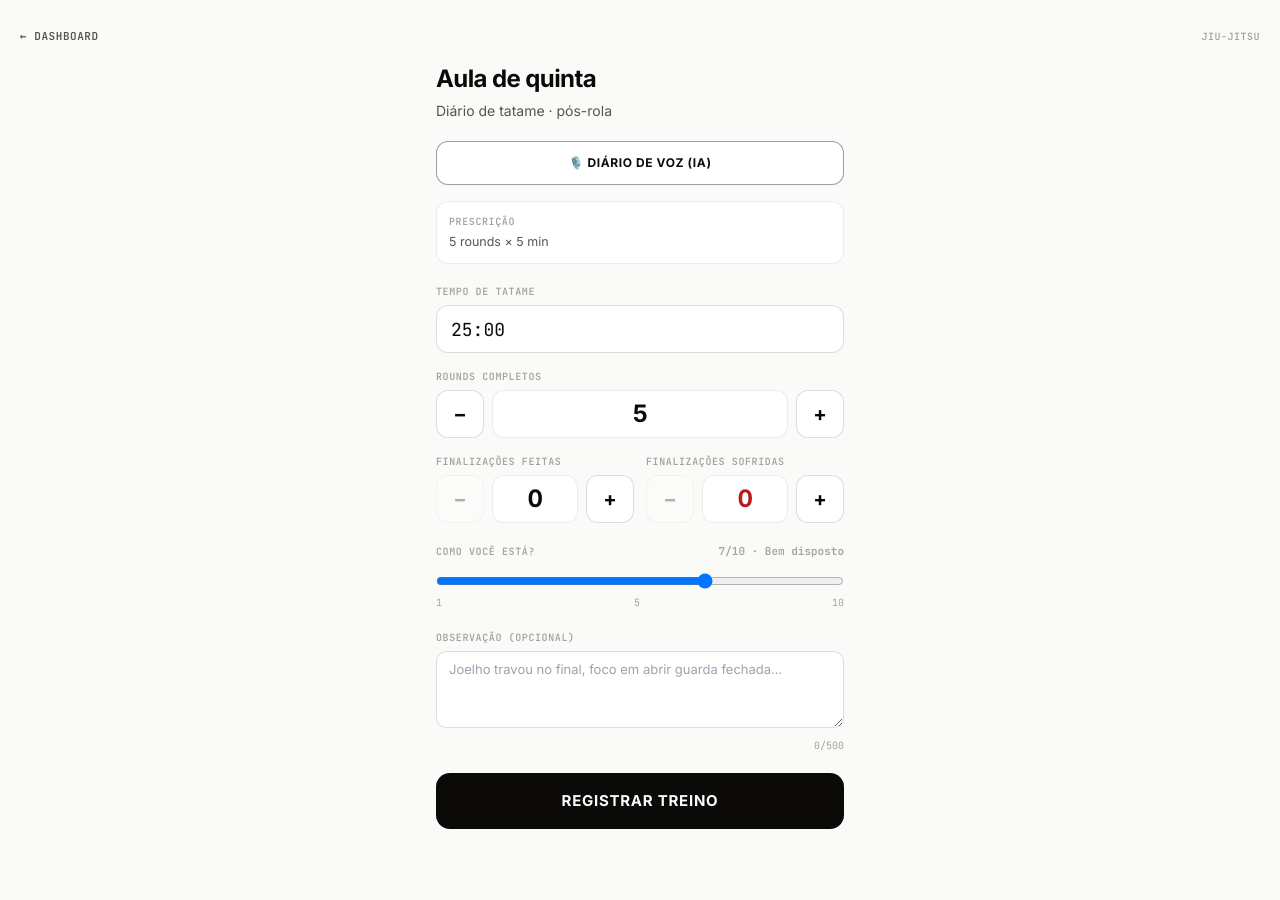
Test: JiuJitsuLive — UI fricção-zero (PR #23) › contador de chars na observação
This screenshot has width=1280, height=900.
Type "Foco em guarda" into the text box with placeholder "Joelho travou no final, foco em abrir guarda fechada..." at [640, 690], box [436,651,844,728]
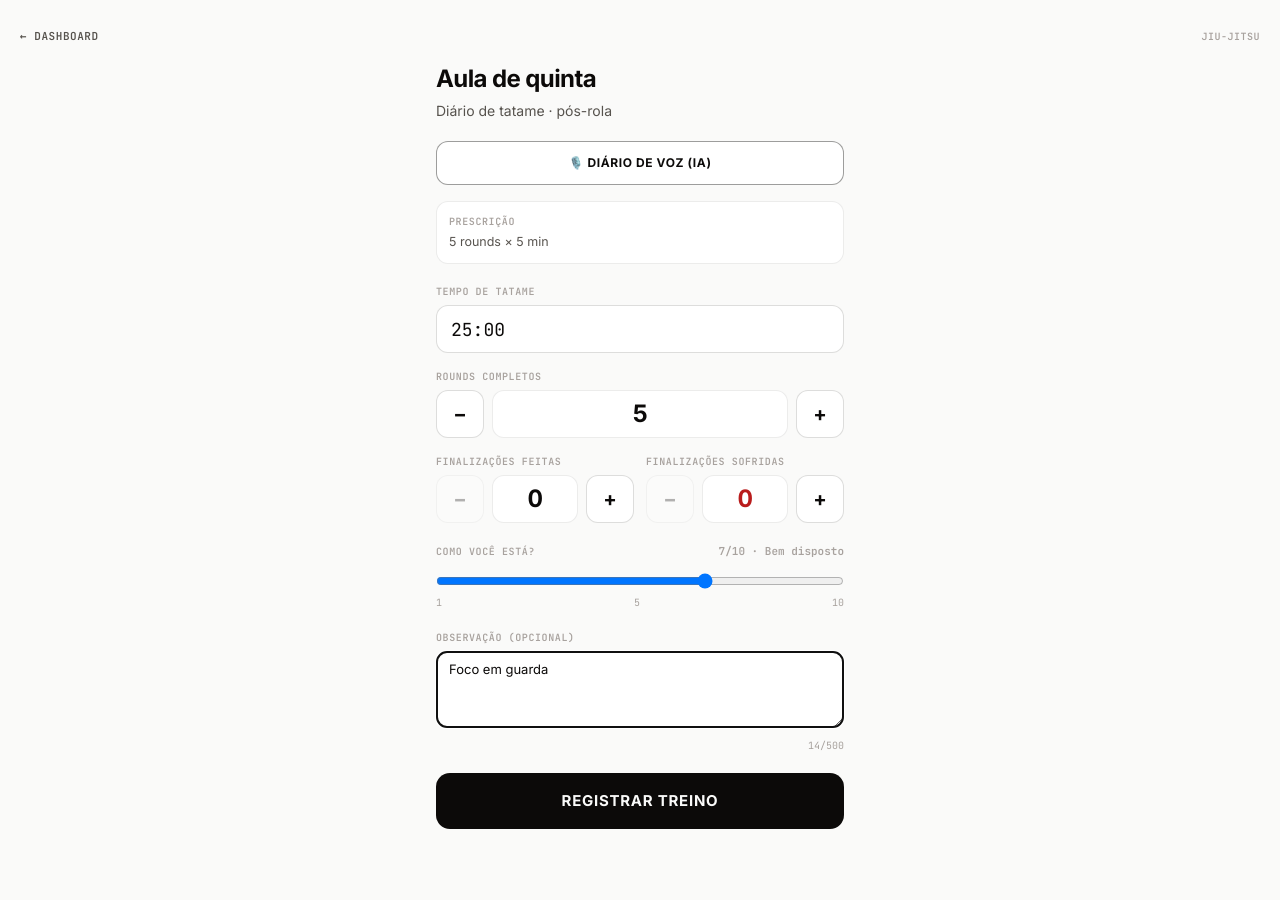
Expected: the text "14/500" is shown, [808,739,844,752]
